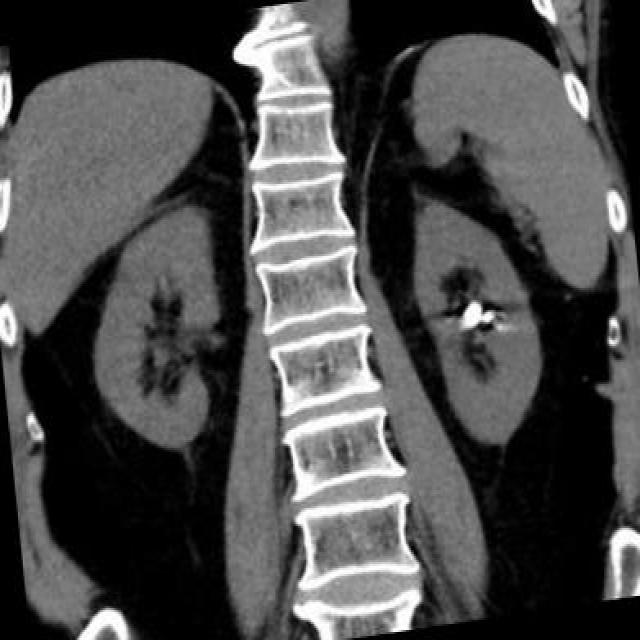Tas_Var: (460, 298, 483, 332), (480, 308, 497, 326), (494, 320, 504, 332)
